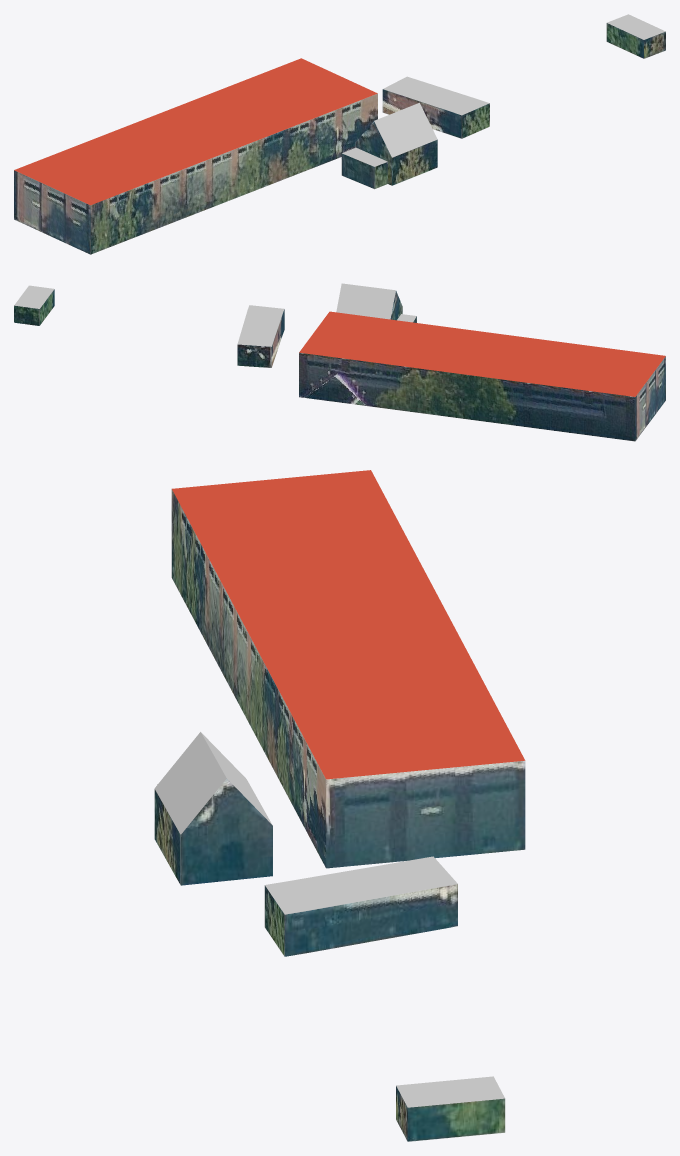
3 renders of one model, top to bottom at view 1: azimuth 30°, elevation 25°; view 2: azimuth 150°, elevation 25°; view 3: azimuth 270°, elevation 25°, orthographic. The views are drawn at different scales.
Bounding box in the file's own units: 108 × 8.87 × 29.06.
3 materials, 1 textured.
